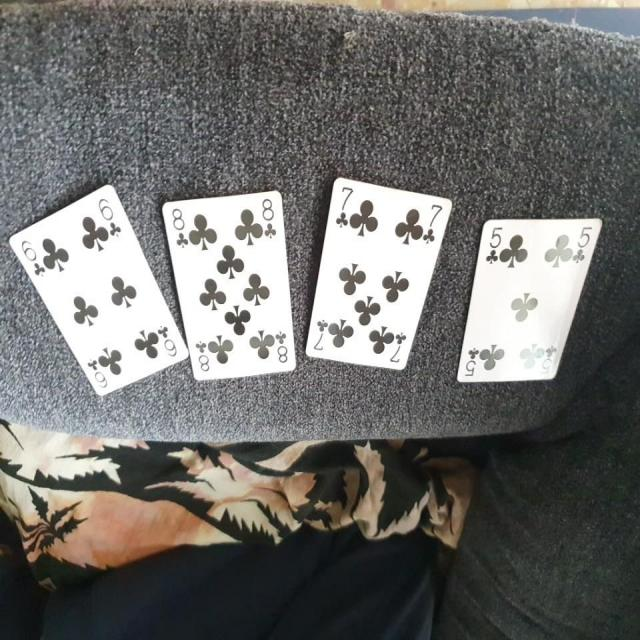5 Trefoils: (454, 214, 603, 385)
6 Trefoils: (8, 180, 188, 401)
7 Trefoils: (301, 174, 452, 371)
8 Trefoils: (160, 186, 298, 388)
